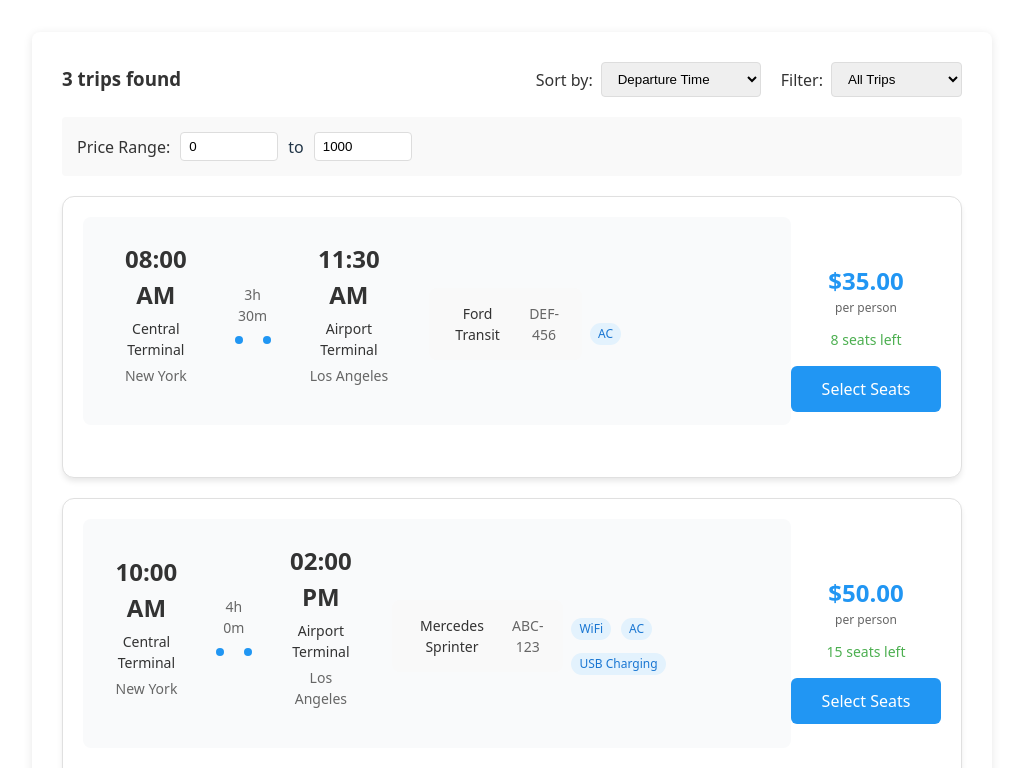
Test: TripResults › filters trips by price range
Replace the text in the 1st number field showing "0" with "40" at coordinates (229, 146), box x1=180 y1=132 x2=278 y2=161
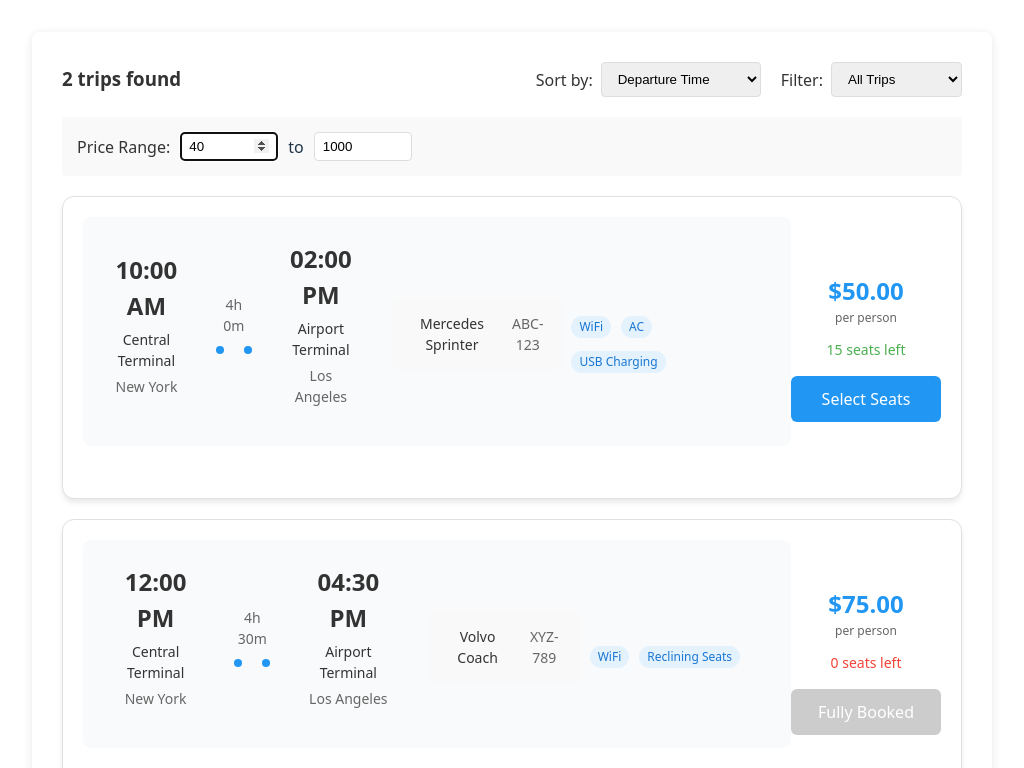
Clear the 2nd number field showing "1000" at coordinates (363, 146), box x1=314 y1=132 x2=412 y2=161
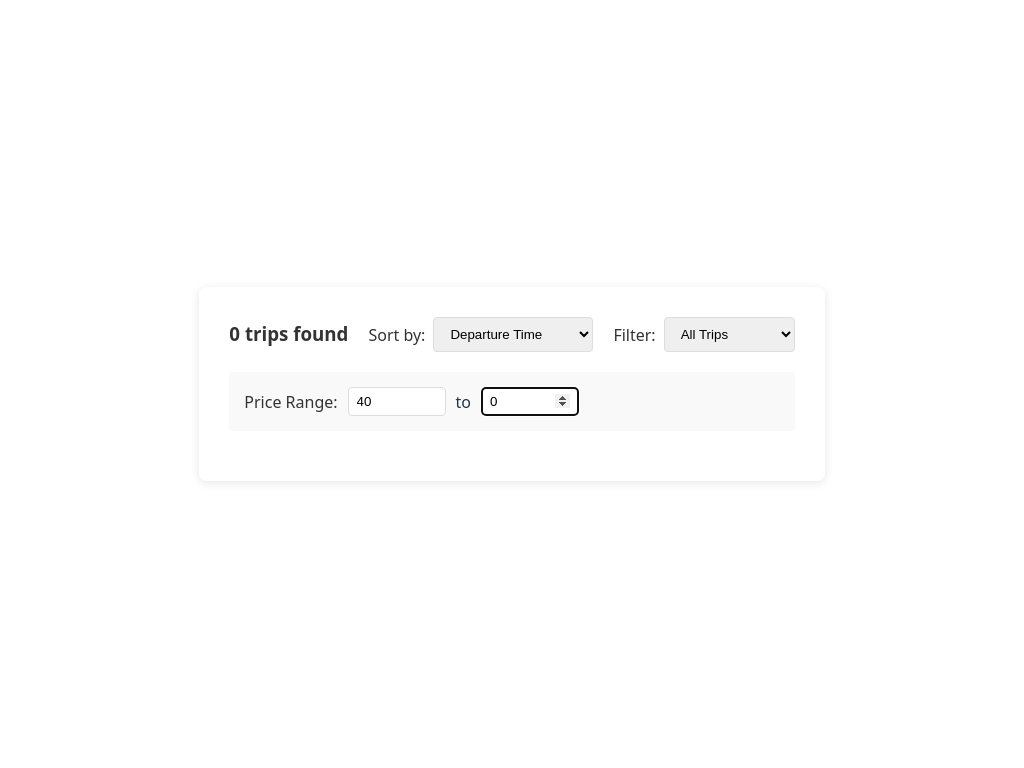
Type "60" into the 2nd number field showing "1000" at coordinates (530, 402), box x1=481 y1=387 x2=579 y2=416
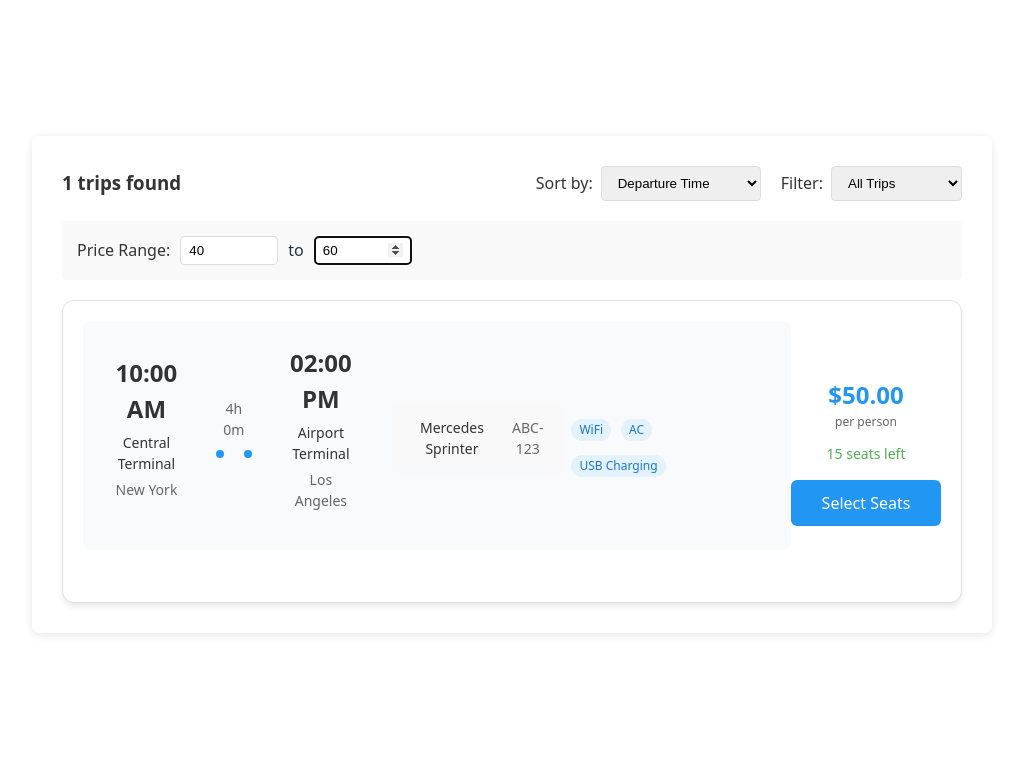
Expected: the text "$35.00" is not shown
Expected: the heading "1 trips found" is shown, x1=62 y1=169 x2=181 y2=197
Expected: the text "$50.00" is shown, x1=828 y1=378 x2=904 y2=410
